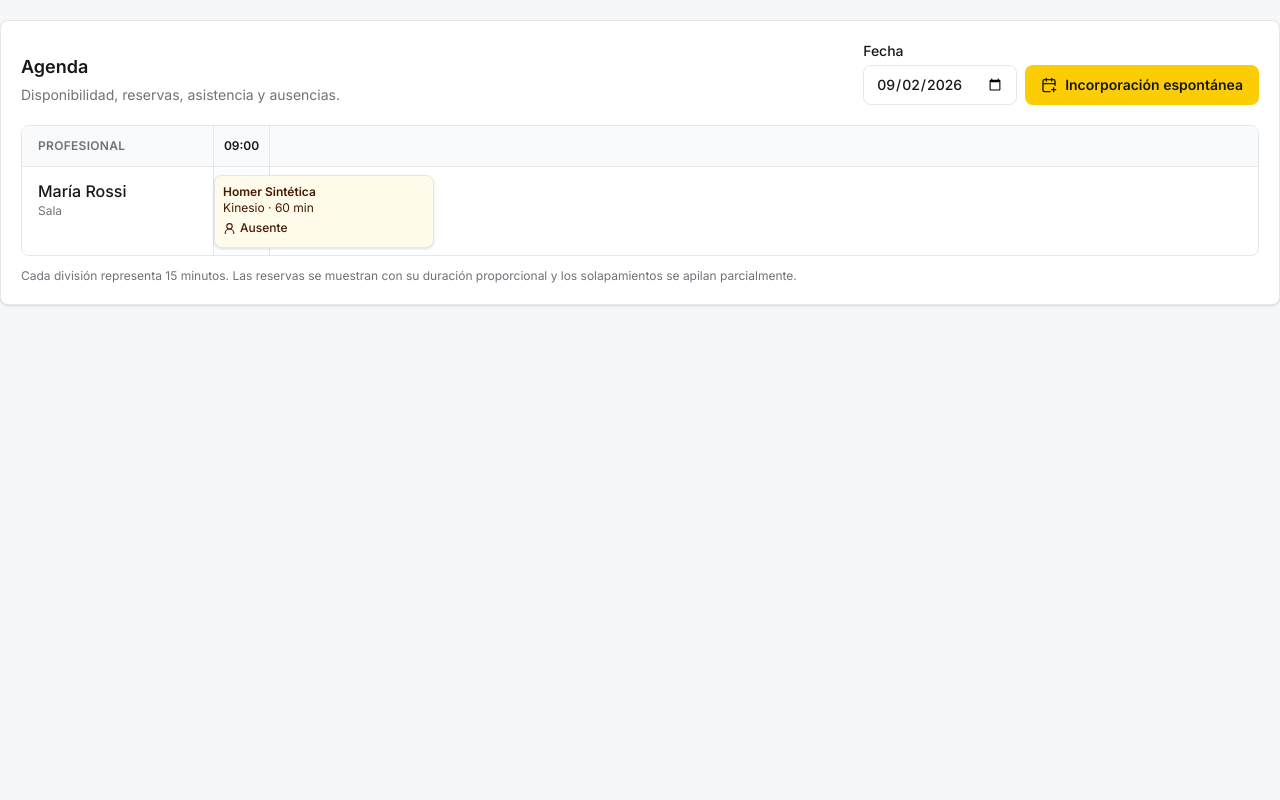
Scenario: corrects ABSENT (label Ausente) to ATTENDED via the existing correction endpoint (FIXED)
The image size is (1280, 800).
Click the button with aria-label "Homer Sintética 09:00 Ausente" at (324, 211), box [214,175,434,248]
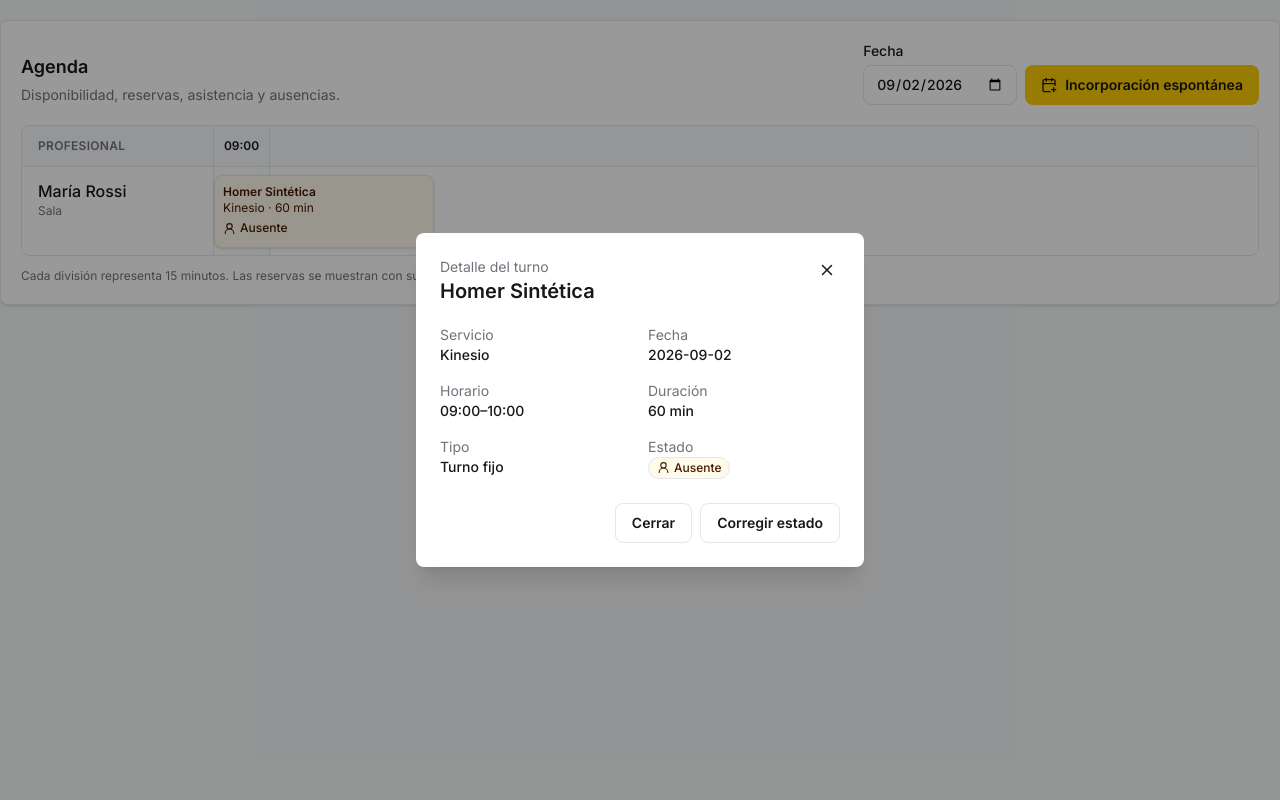
Check: the text "Estado" is shown, box [648,438,693,455]
Check: the text "Ausente" is shown, box [648,457,730,479]
Click the button "Corregir estado" at (770, 523), box [700,503,840,543]
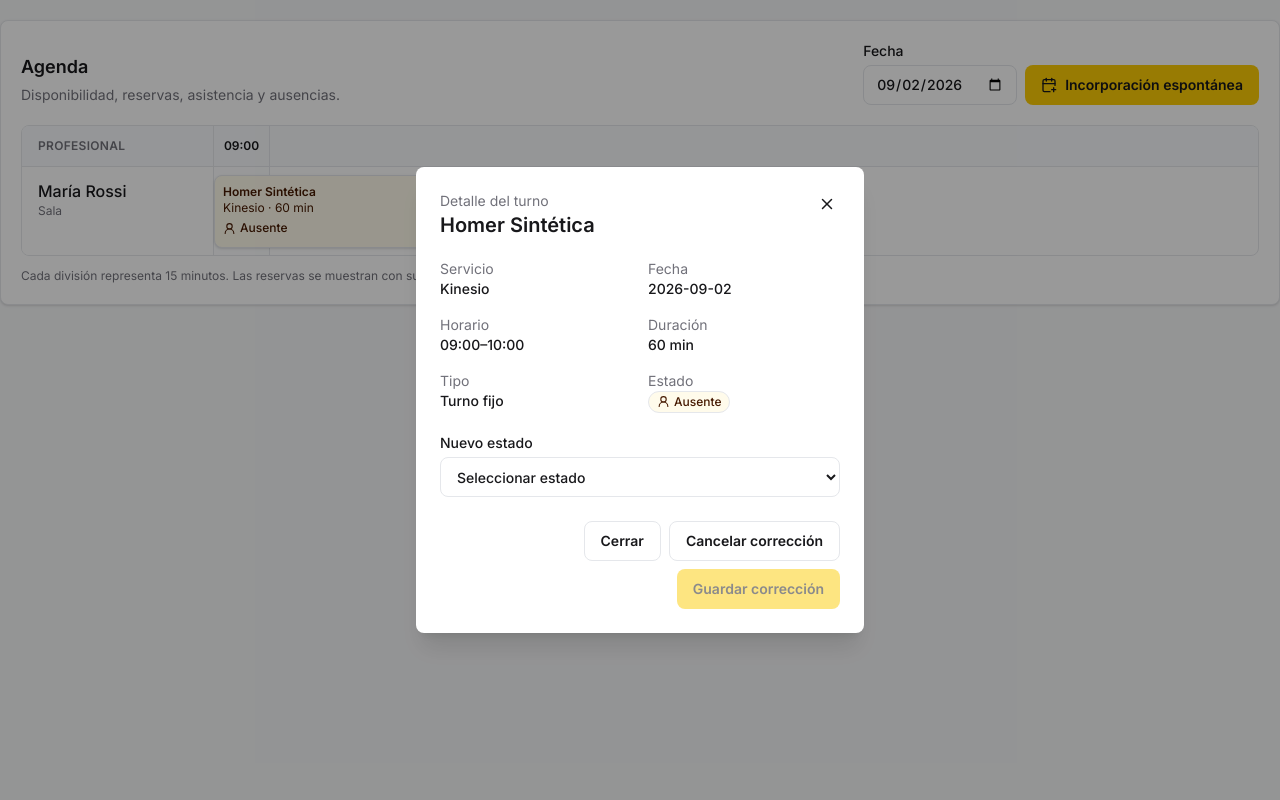
Check: the button "Guardar corrección" is disabled, box [677,569,840,609]
Select "Asistió" in the dropdown labelled "Nuevo estado" at (640, 477), box [440,457,840,497]
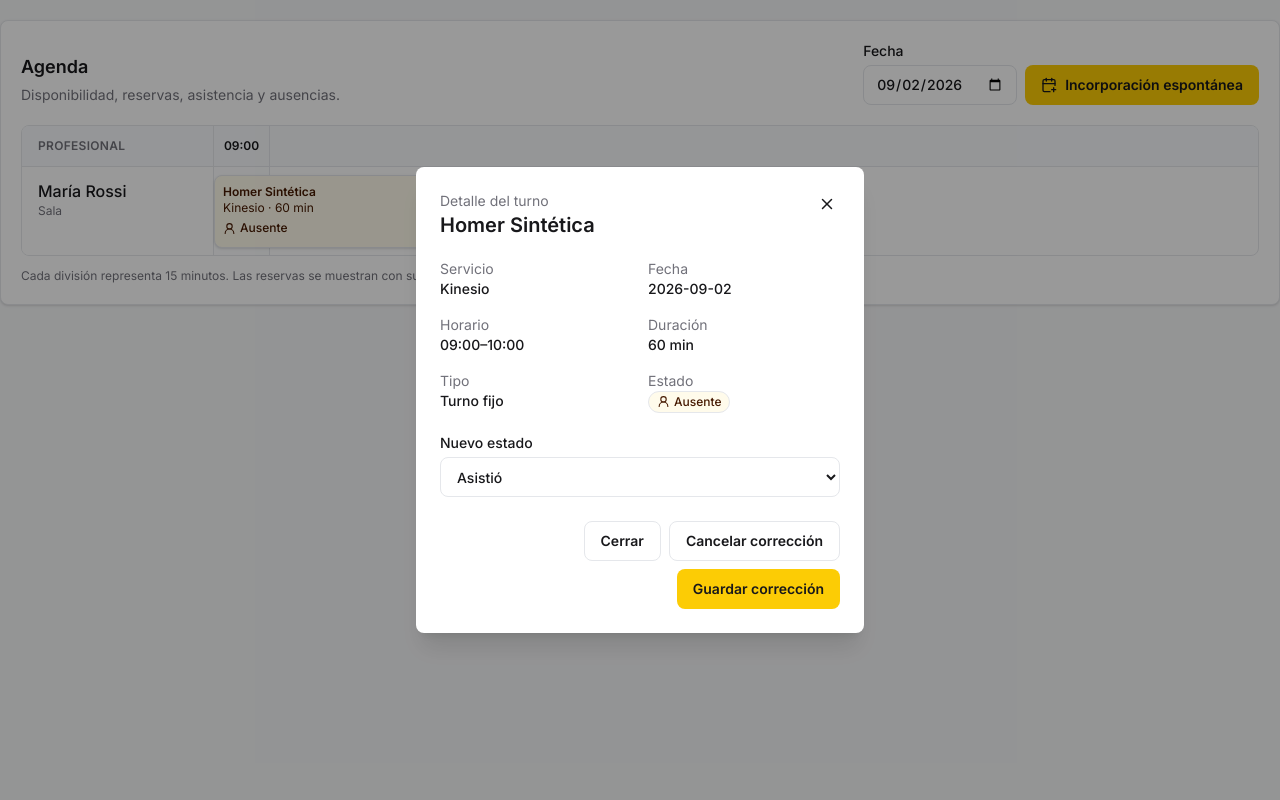
Click the button "Guardar corrección" at (758, 589), box [677,569,840,609]
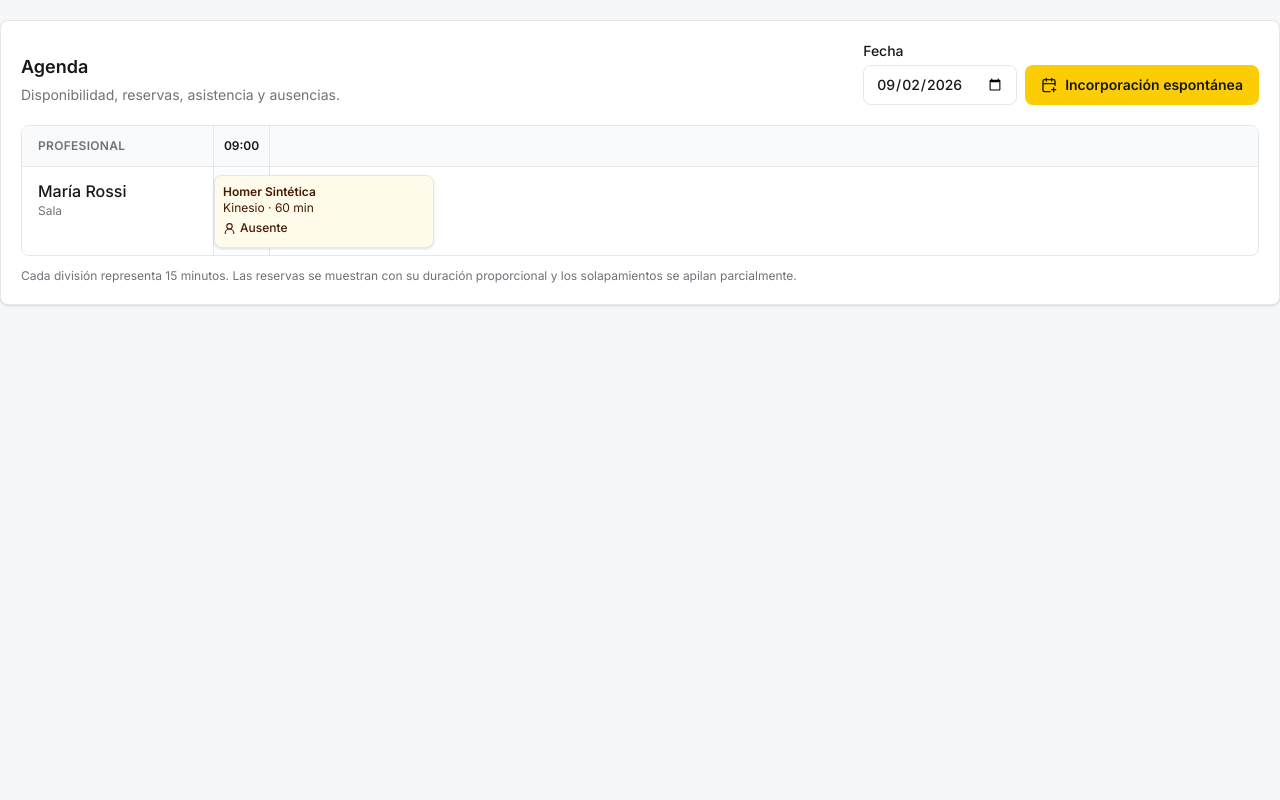
Check: the dialog is gone
